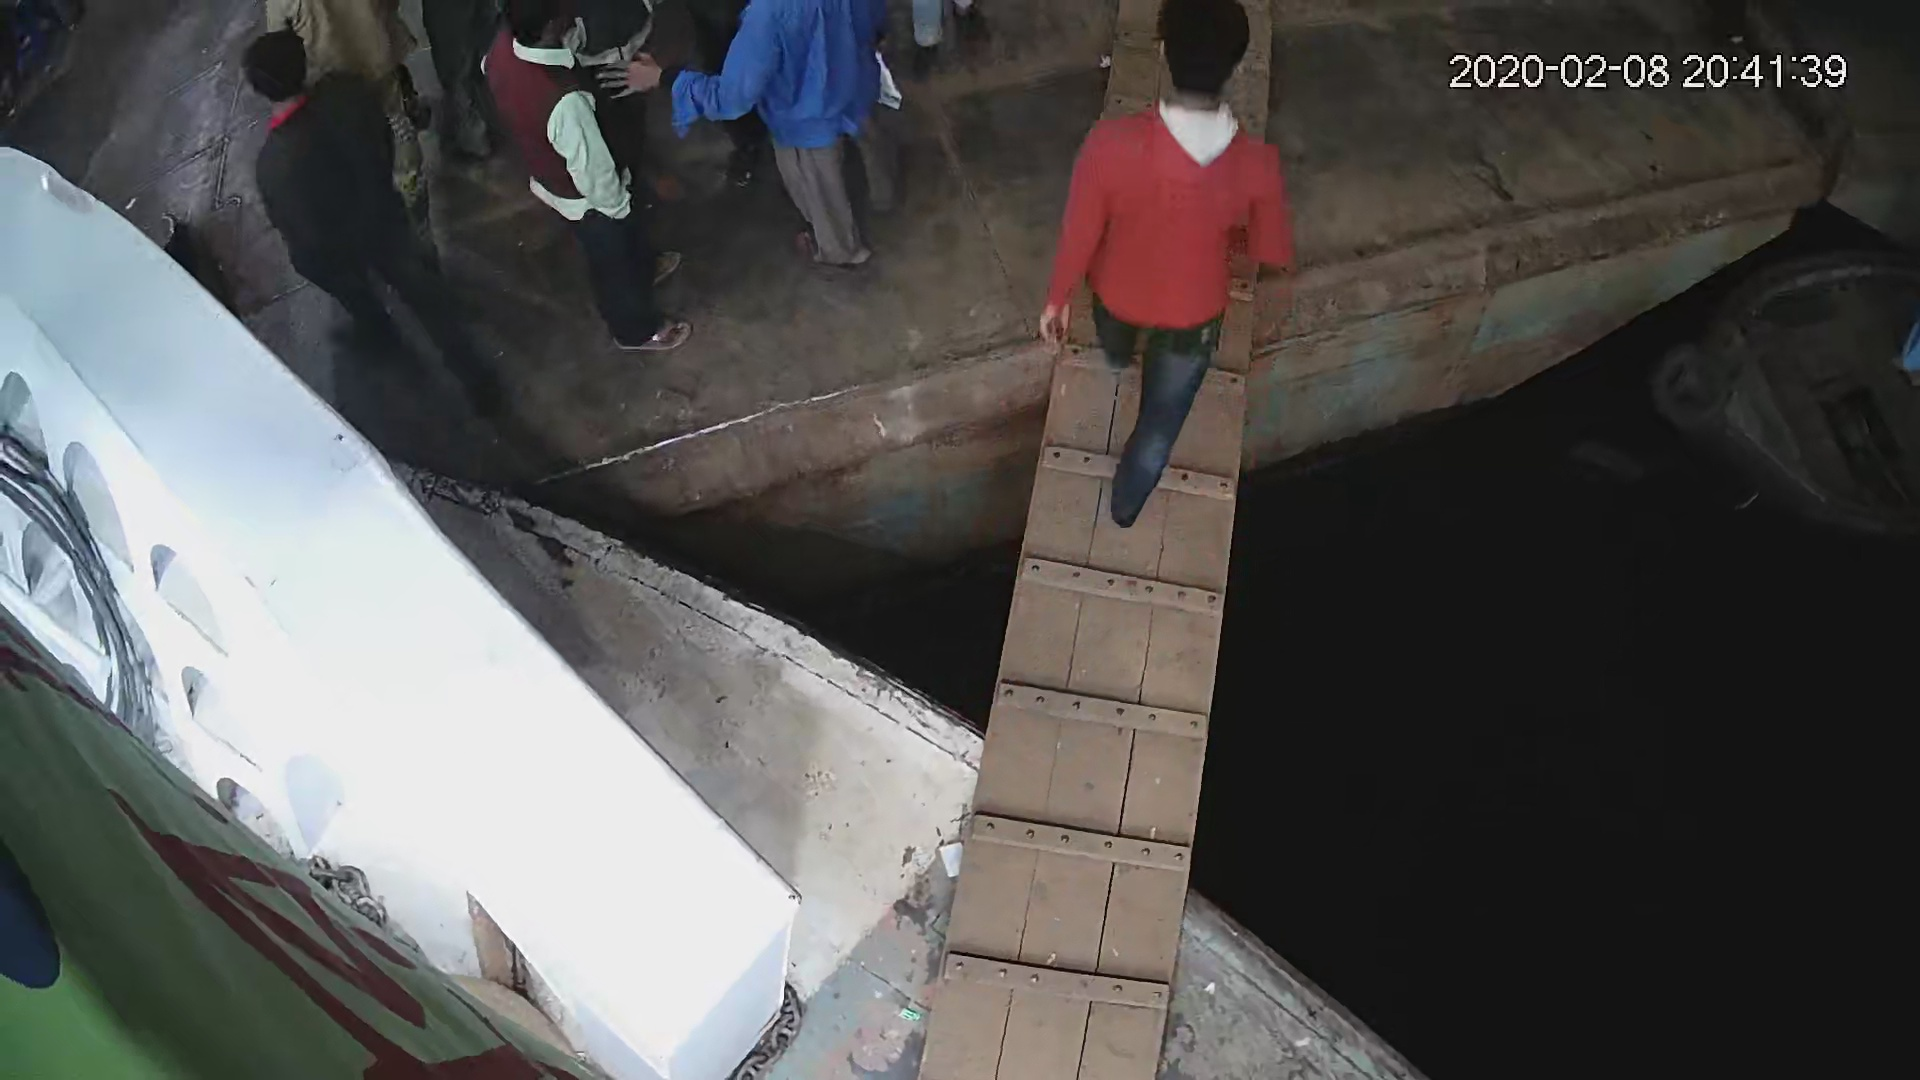person: (1034, 1, 1300, 538), (475, 5, 696, 363), (233, 20, 431, 343), (721, 1, 906, 280)
